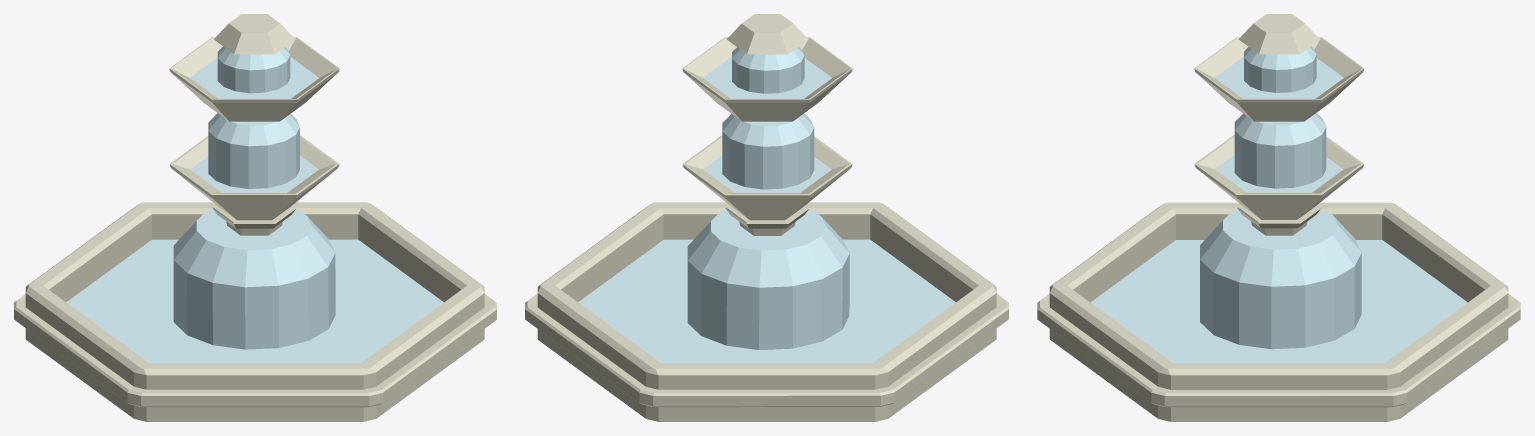
File: Fountain.fbx
The picture shows the model from 3 angles, left to right: view 1: azimuth 30°, elevation 25°; view 2: azimuth 150°, elevation 25°; view 3: azimuth 270°, elevation 25°; orthographic projection.
Visible parts, largest first — view 1: Cylinder.001, Cylinder; view 2: Cylinder.001, Cylinder; view 3: Cylinder.001, Cylinder.
Boxes of the visible parts, x1,y1,x2,y2 form: Cylinder.001: [14, 14, 496, 421]; Cylinder: [173, 46, 335, 349]; Cylinder.001: [525, 14, 1008, 421]; Cylinder: [687, 46, 849, 350]; Cylinder.001: [1037, 14, 1520, 421]; Cylinder: [1200, 46, 1361, 349].
Bounding box in the file's own units: 200 × 162 × 227.
